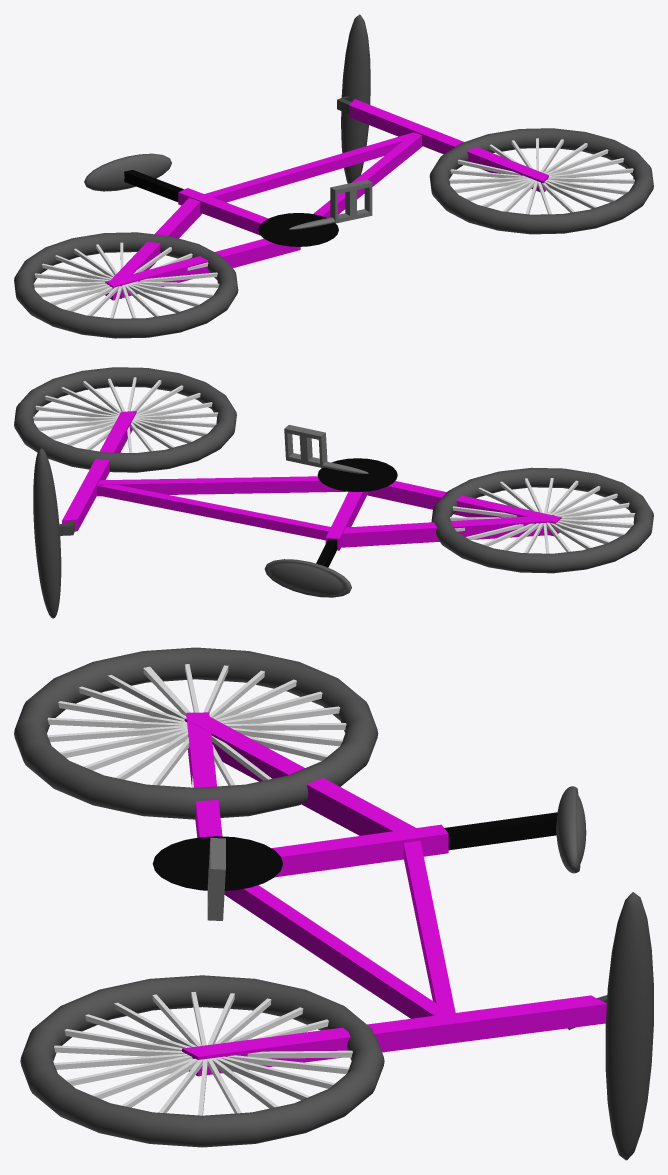
The model's file is Bike_Pink.fbx.
3 views of the same model, one above another, from view 1: azimuth 30°, elevation 25°; view 2: azimuth 150°, elevation 25°; view 3: azimuth 270°, elevation 25° (orthographic). The views are drawn at different scales.
Visible parts, largest first — view 1: pasted__pasted__pTorus1, pasted__pTorus1, pasted__pCube2 (×2), pSphere1, pCube3, pCube1, pDisc1, pSphere2, pasted__pCube1, pasted__pCube3, pCube2, pCube4; view 2: pasted__pTorus1, pasted__pasted__pTorus1, pSphere1, pCube3, pasted__pCube1, pasted__pCube3, pasted__pCube2 (×2), pSphere2, pCube1, pDisc1, pCube4, pCube2; view 3: pasted__pasted__pTorus1, pasted__pTorus1, pasted__pCube2 (×2), pSphere1, pasted__pasted__pasted__pasted__pasted__pasted__pasted__pCub (×10), pasted__pasted__pasted__pasted__pasted__pasted__pasted__past (×10), pasted__pCube3, pasted__pCube1, pCube2, pDisc1, pCube3, pCube1 (+2 smaller).
Part boxes in pixels (left/top/right/bottom): pasted__pasted__pTorus1: left=429, top=128, right=653, bottom=234; pasted__pTorus1: left=14, top=232, right=238, bottom=338; pasted__pCube2 (×2): left=124, top=99, right=548, bottom=201; pSphere1: left=341, top=14, right=370, bottom=183; pCube3: left=204, top=132, right=413, bottom=202; pCube1: left=105, top=239, right=300, bottom=300; pDisc1: left=258, top=213, right=338, bottom=246; pSphere2: left=84, top=153, right=171, bottom=191; pasted__pCube1: left=108, top=197, right=202, bottom=298; pasted__pCube3: left=295, top=132, right=422, bottom=248; pCube2: left=178, top=188, right=268, bottom=235; pCube4: left=330, top=179, right=372, bottom=223; pasted__pTorus1: left=431, top=467, right=653, bottom=573; pasted__pasted__pTorus1: left=14, top=367, right=236, bottom=472; pSphere1: left=33, top=448, right=61, bottom=618; pCube3: left=97, top=485, right=330, bottom=540; pasted__pCube1: left=341, top=515, right=555, bottom=547; pasted__pCube3: left=97, top=476, right=346, bottom=496; pasted__pCube2 (×2): left=62, top=411, right=337, bottom=567; pSphere2: left=264, top=559, right=351, bottom=597; pCube1: left=367, top=481, right=561, bottom=536; pDisc1: left=317, top=458, right=397, bottom=492; pCube4: left=284, top=425, right=327, bottom=467; pCube2: left=325, top=491, right=368, bottom=550; pasted__pasted__pTorus1: left=20, top=975, right=384, bottom=1147; pasted__pTorus1: left=14, top=647, right=378, bottom=819; pasted__pCube2 (×2): left=182, top=812, right=606, bottom=1076; pSphere1: left=605, top=892, right=653, bottom=1160; pasted__pasted__pasted__pasted__pasted__pasted__pasted__pCub (×10): left=47, top=686, right=346, bottom=770; pasted__pasted__pasted__pasted__pasted__pasted__pasted__past (×10): left=54, top=1014, right=352, bottom=1100; pasted__pCube3: left=224, top=885, right=450, bottom=1018; pasted__pCube1: left=184, top=713, right=415, bottom=835; pCube2: left=271, top=824, right=448, bottom=877; pDisc1: left=152, top=836, right=282, bottom=890; pCube3: left=403, top=840, right=455, bottom=1013; pCube1: left=186, top=712, right=222, bottom=837.
Size of the model in its own units: 21.39 by 5.7 by 11.98.
